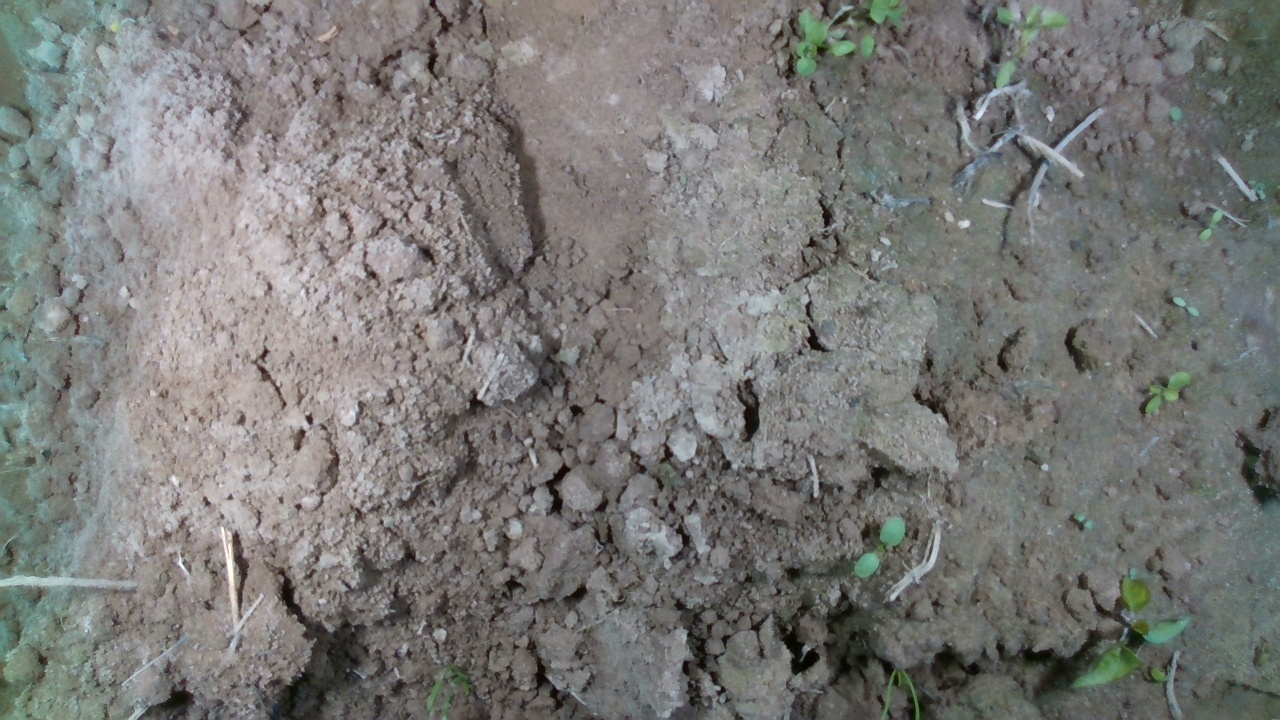weed: (853, 515, 905, 581), (1143, 369, 1191, 418), (1197, 208, 1223, 243), (1171, 294, 1199, 318)
